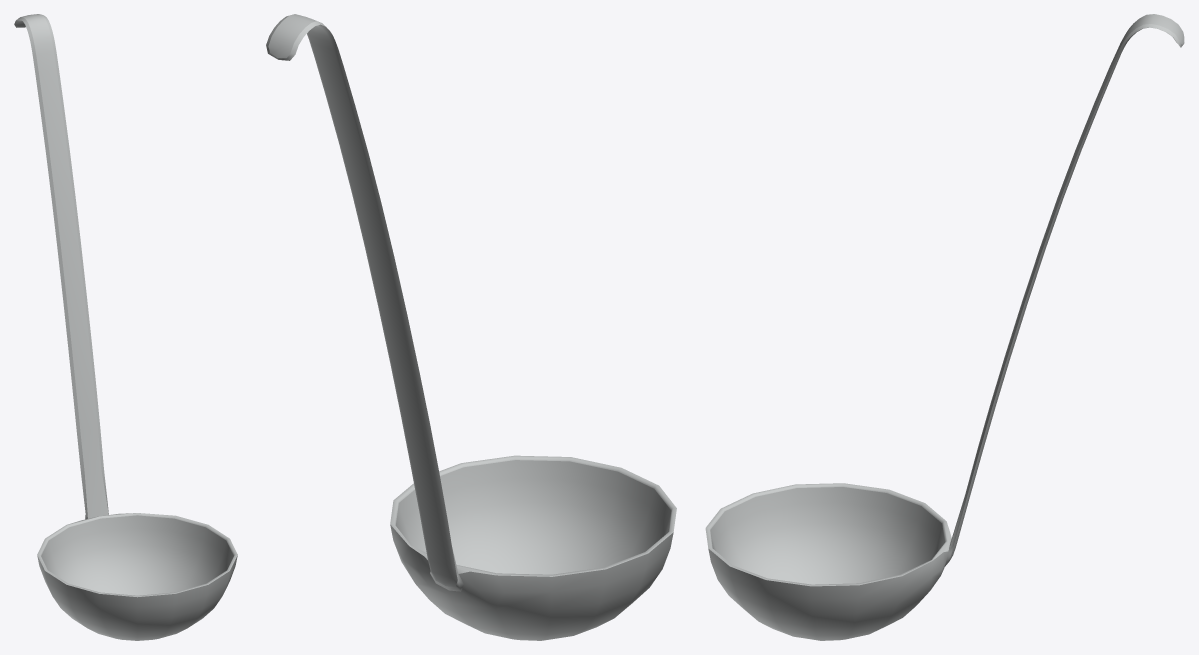
Rendered from Laddle2.fbx.
3 views of the same model, side by side, from view 1: azimuth 30°, elevation 25°; view 2: azimuth 150°, elevation 25°; view 3: azimuth 270°, elevation 25° (orthographic). The views are drawn at different scales.
Visible parts, largest first — view 1: Laddle; view 2: Laddle; view 3: Laddle.
Part boxes in pixels (x1,y1,x2,y2): Laddle: (14, 14, 237, 640); Laddle: (266, 14, 676, 640); Laddle: (705, 14, 1184, 640).
Bounding box in the file's own units: 12.6 × 35.73 × 24.71.
Materials: 1 (1 with a texture image).
